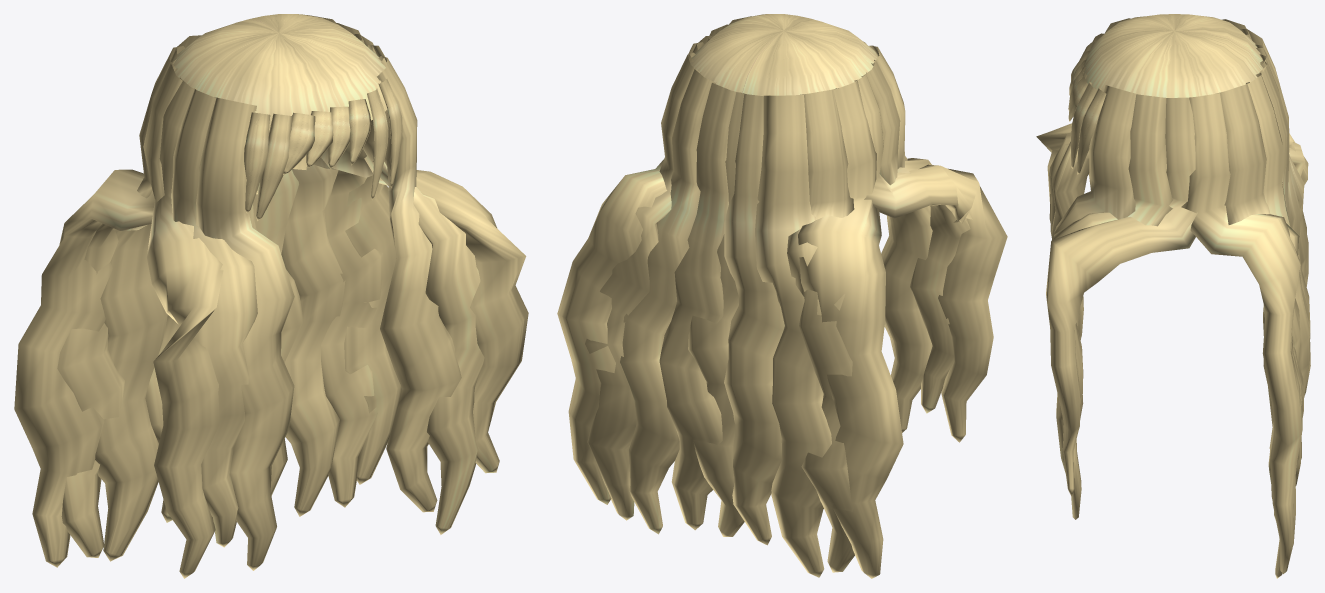
File: SB_Hair.fbx
3 renders of one model, left to right at view 1: azimuth 30°, elevation 25°; view 2: azimuth 150°, elevation 25°; view 3: azimuth 270°, elevation 25°, orthographic. The views are drawn at different scales.
Visible parts, largest first — view 1: SB_Hair; view 2: SB_Hair; view 3: SB_Hair.
Boxes of the visible parts, left/top/right/bottom form: SB_Hair: left=14, top=14, right=528, bottom=578; SB_Hair: left=557, top=14, right=1007, bottom=578; SB_Hair: left=1036, top=14, right=1310, bottom=578.
Bounding box in the file's own units: 2.56 × 3.39 × 1.69.
Materials: 1 (1 with a texture image).
